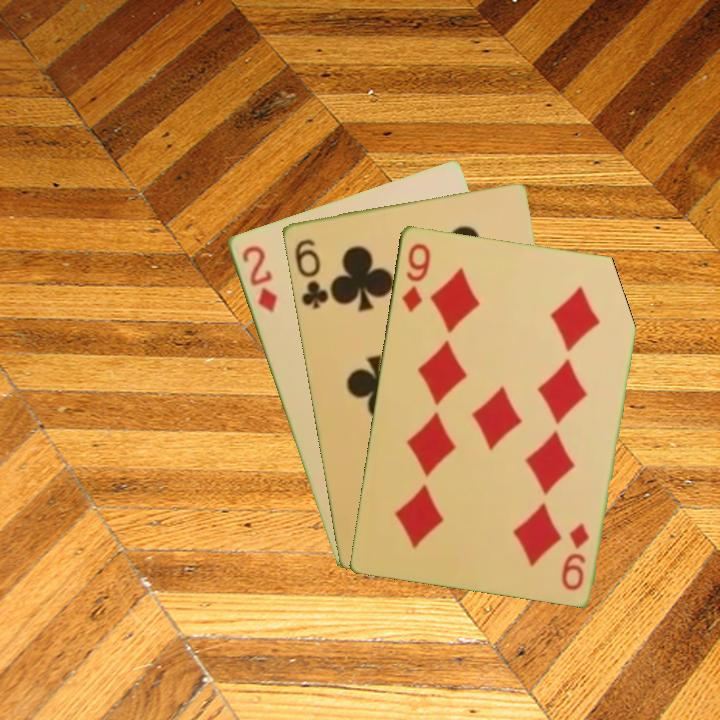2d: (237, 241, 280, 315)
6c: (290, 235, 331, 312)
9d: (397, 239, 433, 315), (558, 519, 592, 593)
